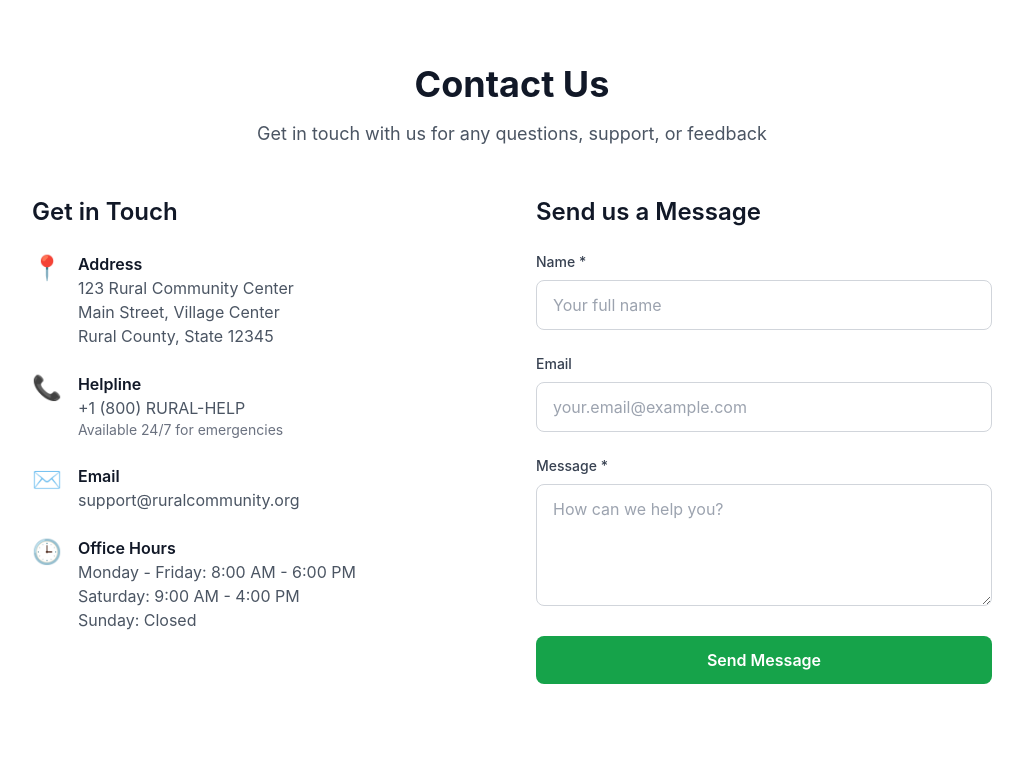
Test case: ContactSection › Error Handling › handles validation errors from backend
The width and height of the screenshot is (1024, 768).
Type "John Doe" into the field labelled "Name *" at [764, 305], box [536,280,992,330]
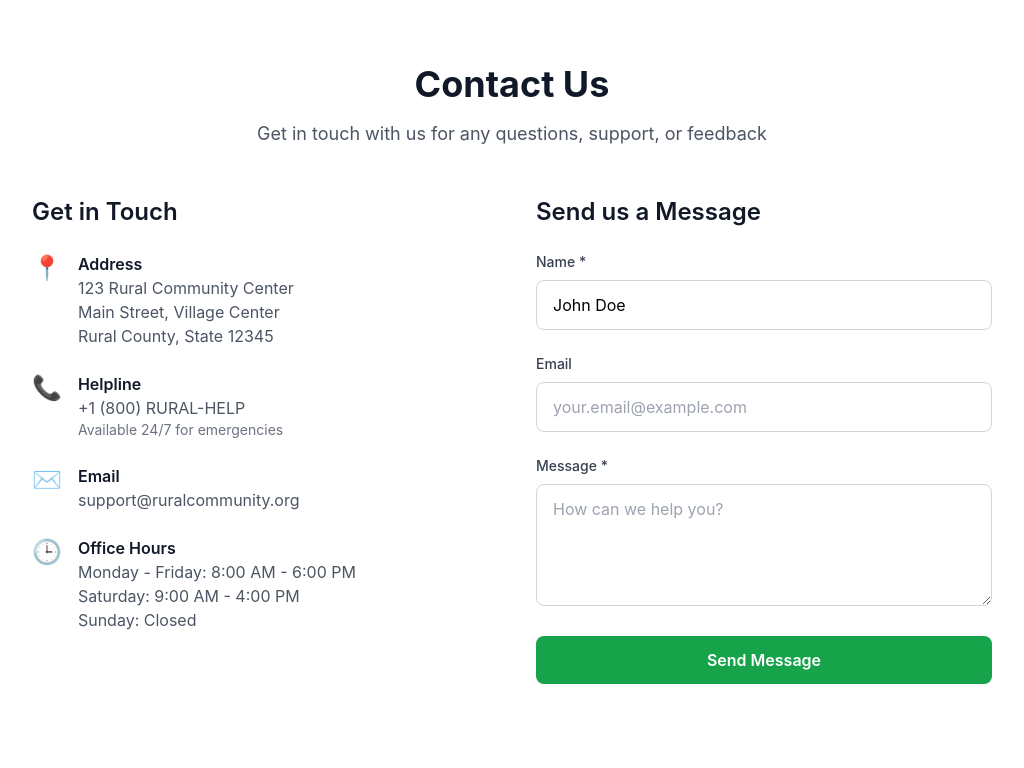
Type "This is a test message with enough characters." into the text box labelled "Message *" at [764, 545], box [536,484,992,606]
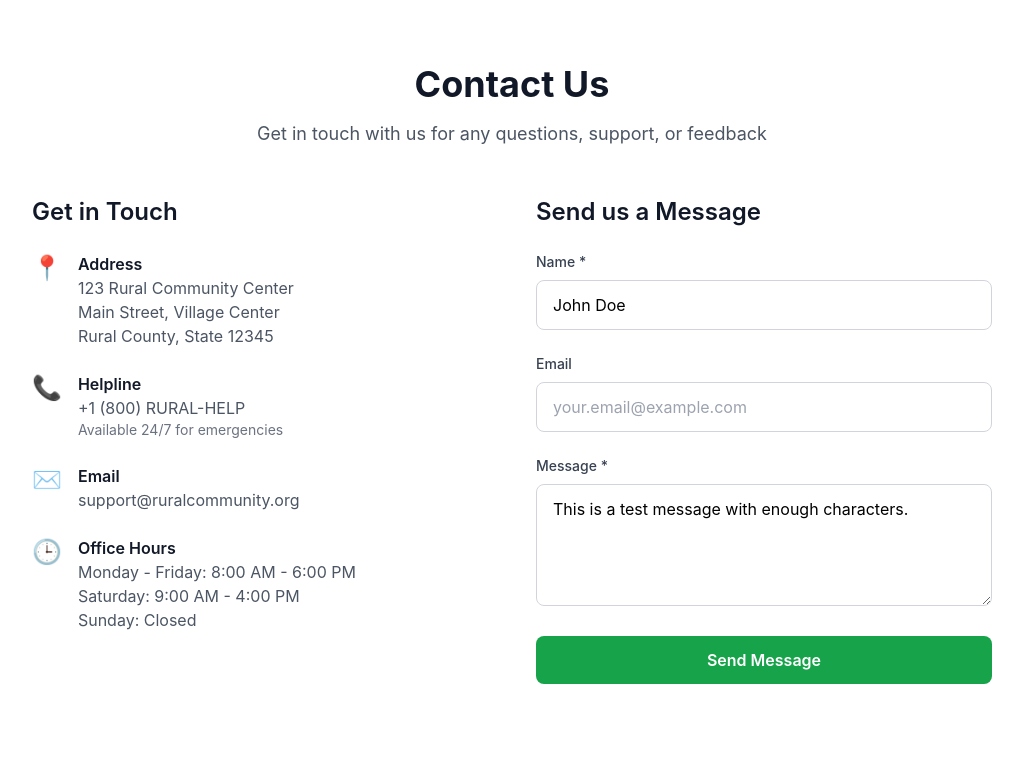
Click the button "Send Message" at [764, 660], box [536,636,992,684]
(page scrolled)
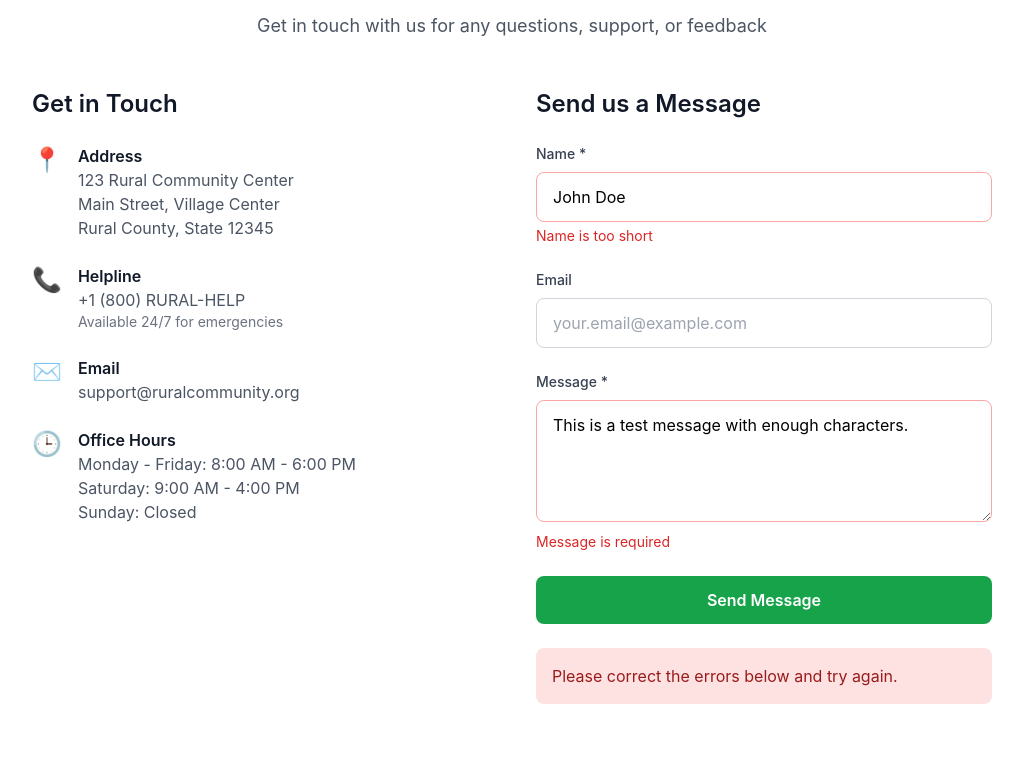
Expected: the text "Name is too short" is shown, [536,227,653,244]
Expected: the text "Message is required" is shown, [536,533,670,550]
Expected: the text "Please correct the errors below and try again." is shown, [536,648,992,704]
